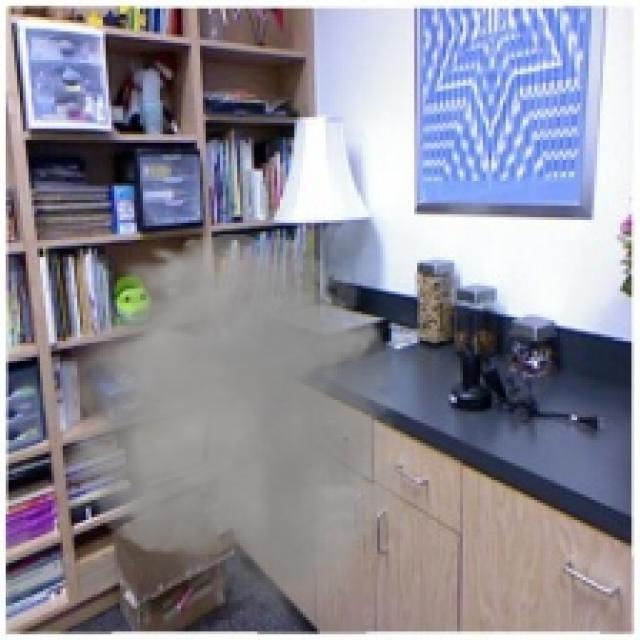Smoke: (19, 222, 432, 634)
